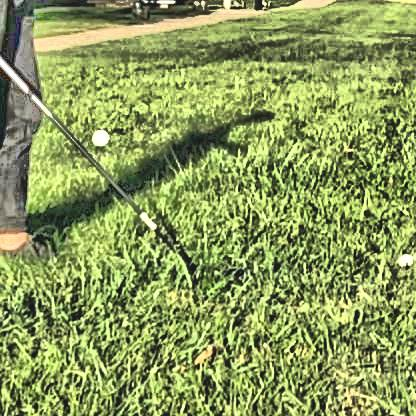golfball: (89, 124, 108, 143)
